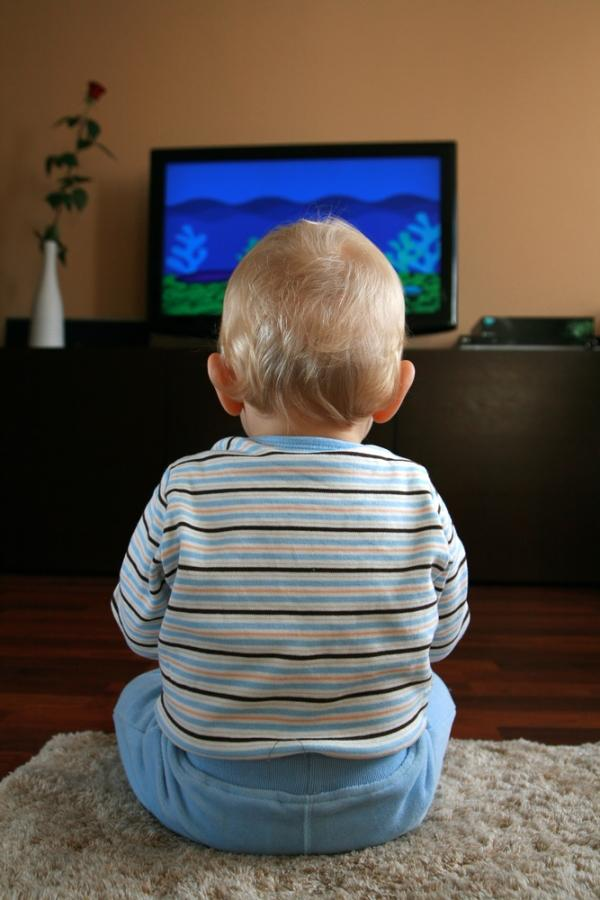person: (110, 215, 473, 852)
